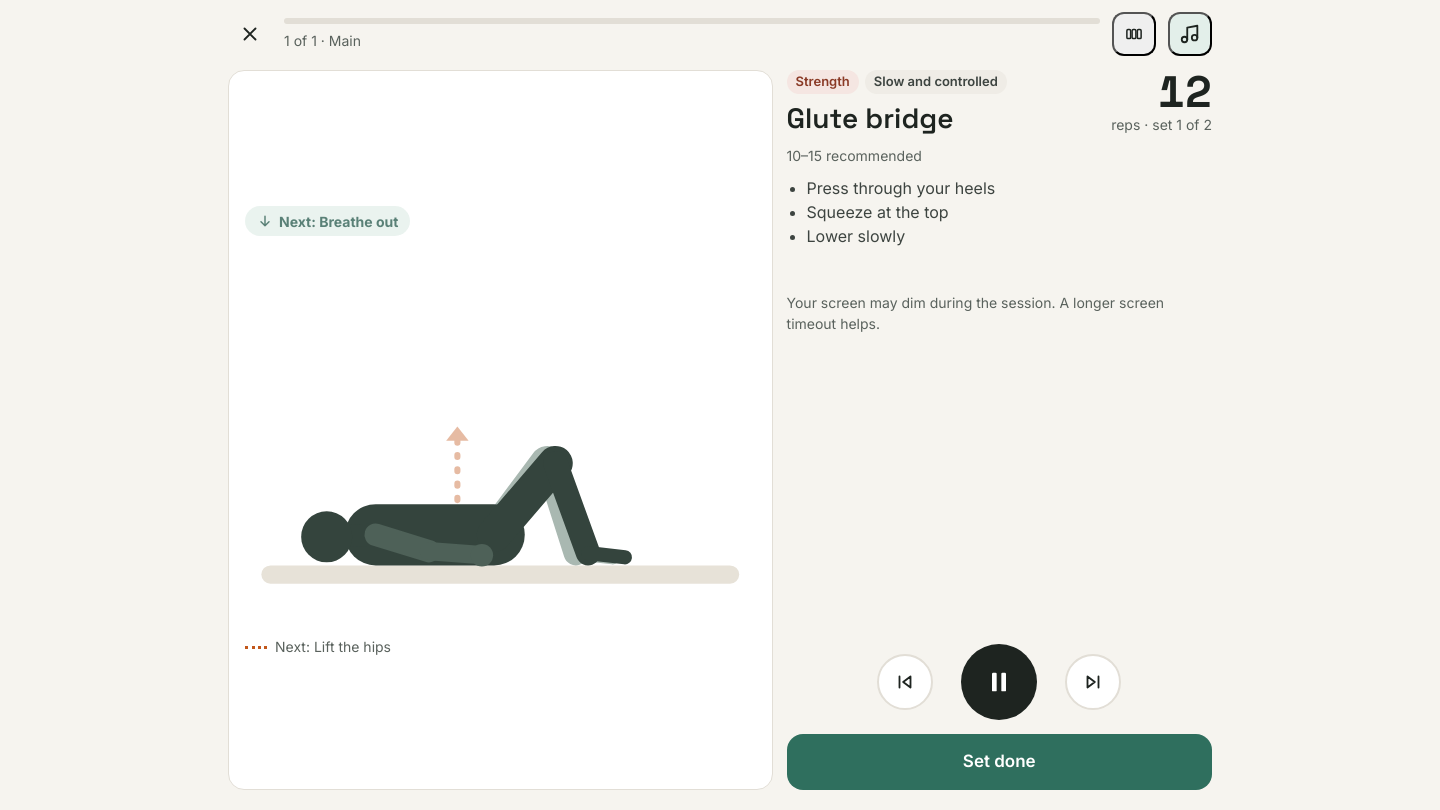
Test case: PlayerScreen sound (009) › plays the session mood, stops quickly on pause and gently at the end
This screenshot has width=1440, height=810.
Click the button named "Pause" at (999, 682), box [961, 644, 1037, 720]
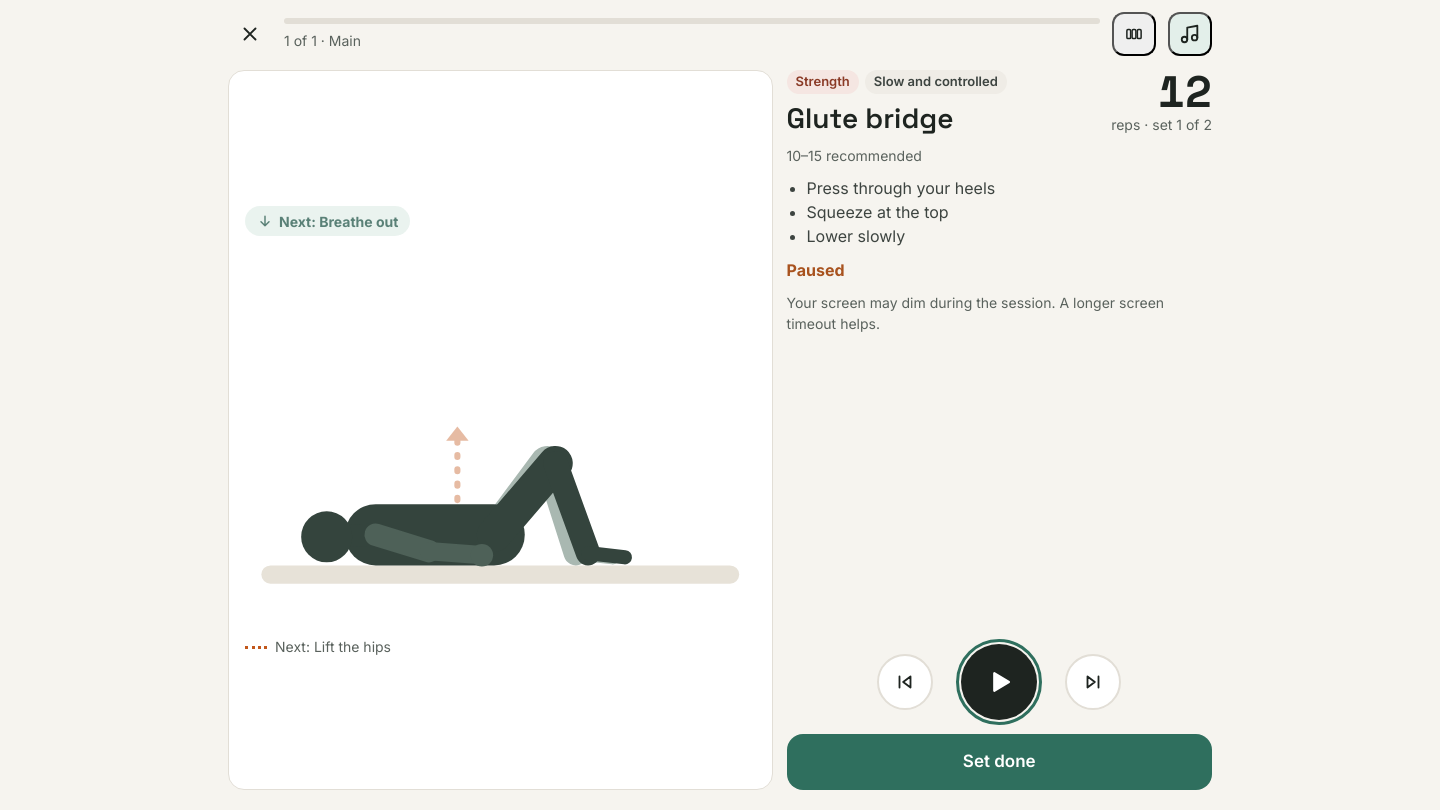
Click the button named "Resume" at (999, 682), box [961, 644, 1037, 720]
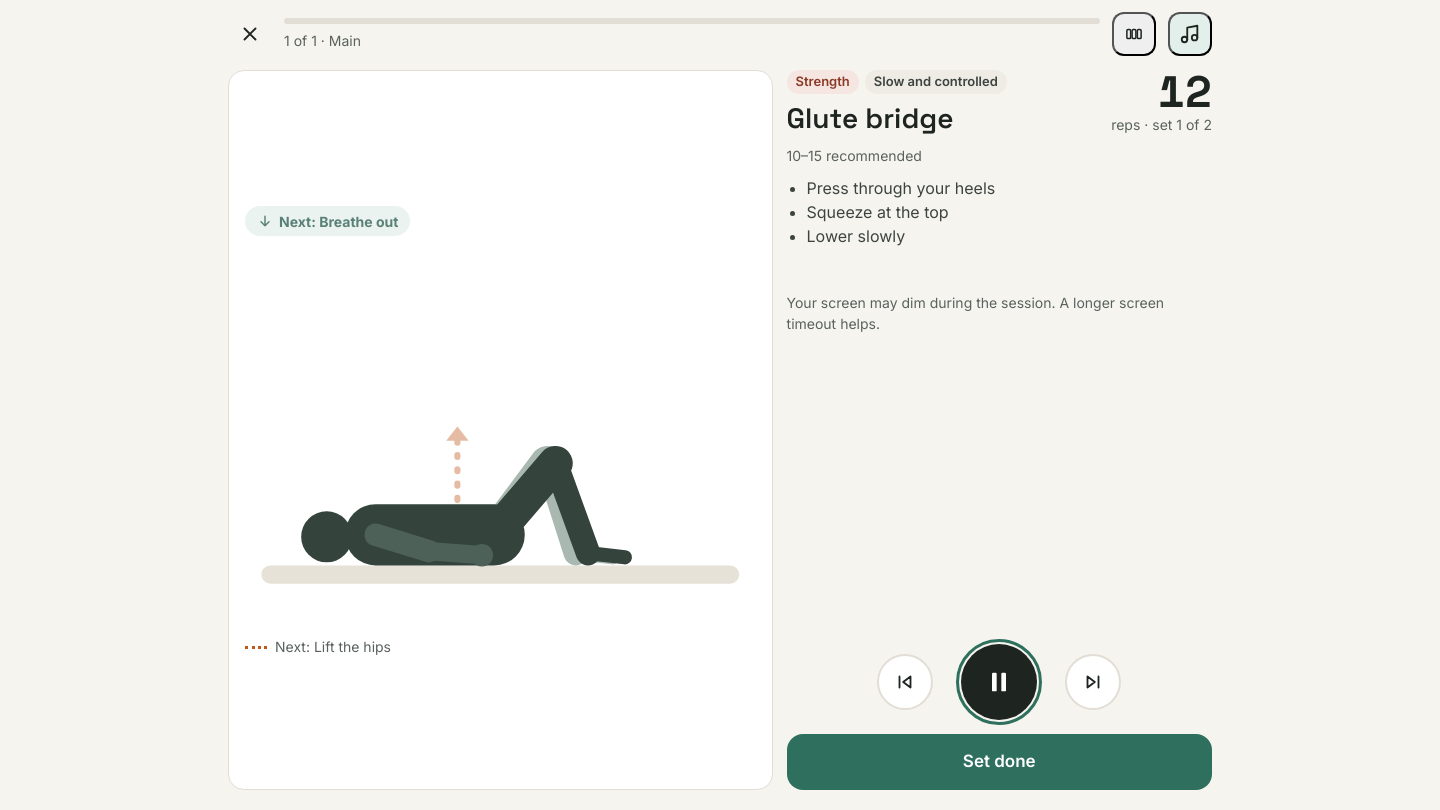
Click the button "Set done" at (999, 762), box [786, 734, 1212, 790]
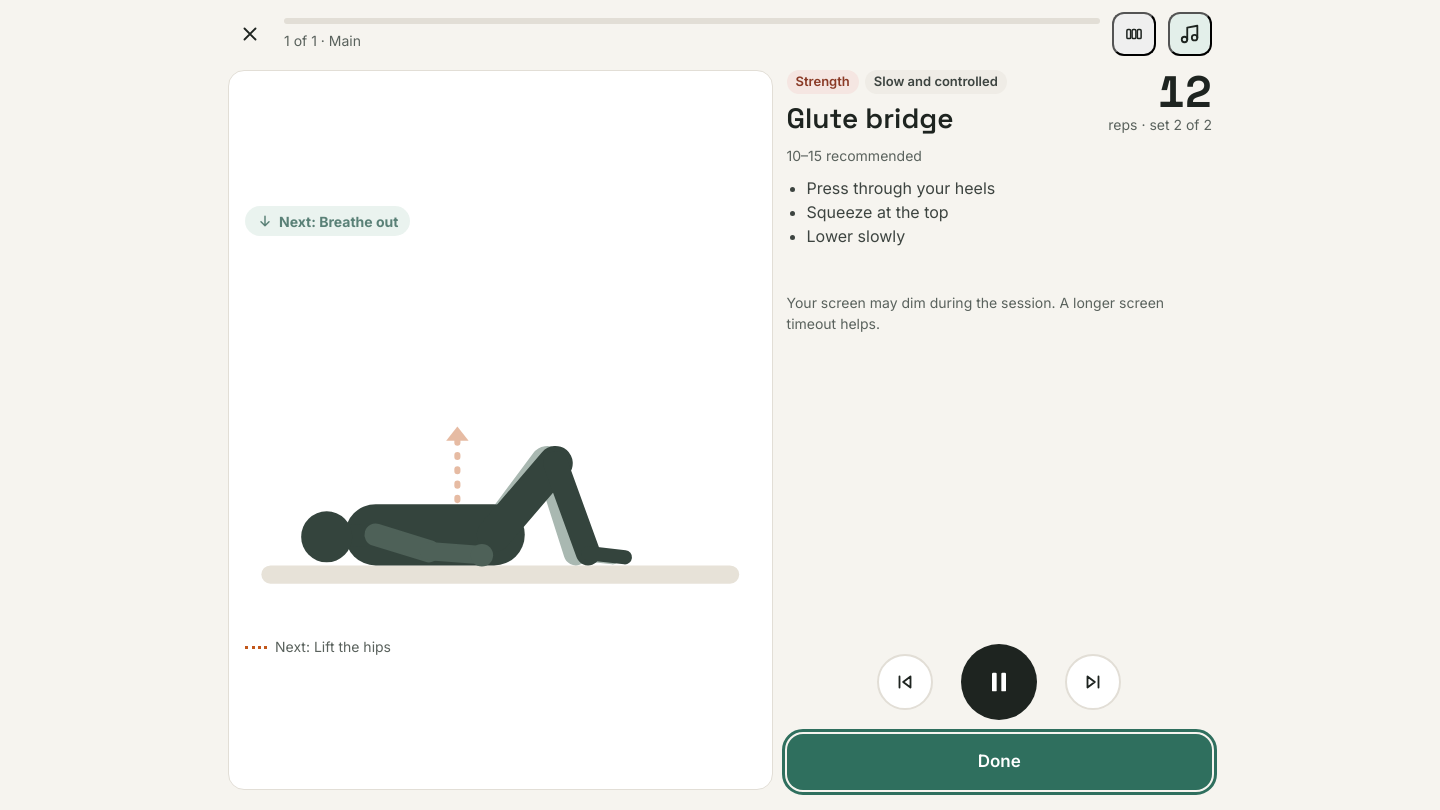
Click the button "Done" at (999, 762), box [786, 734, 1212, 790]
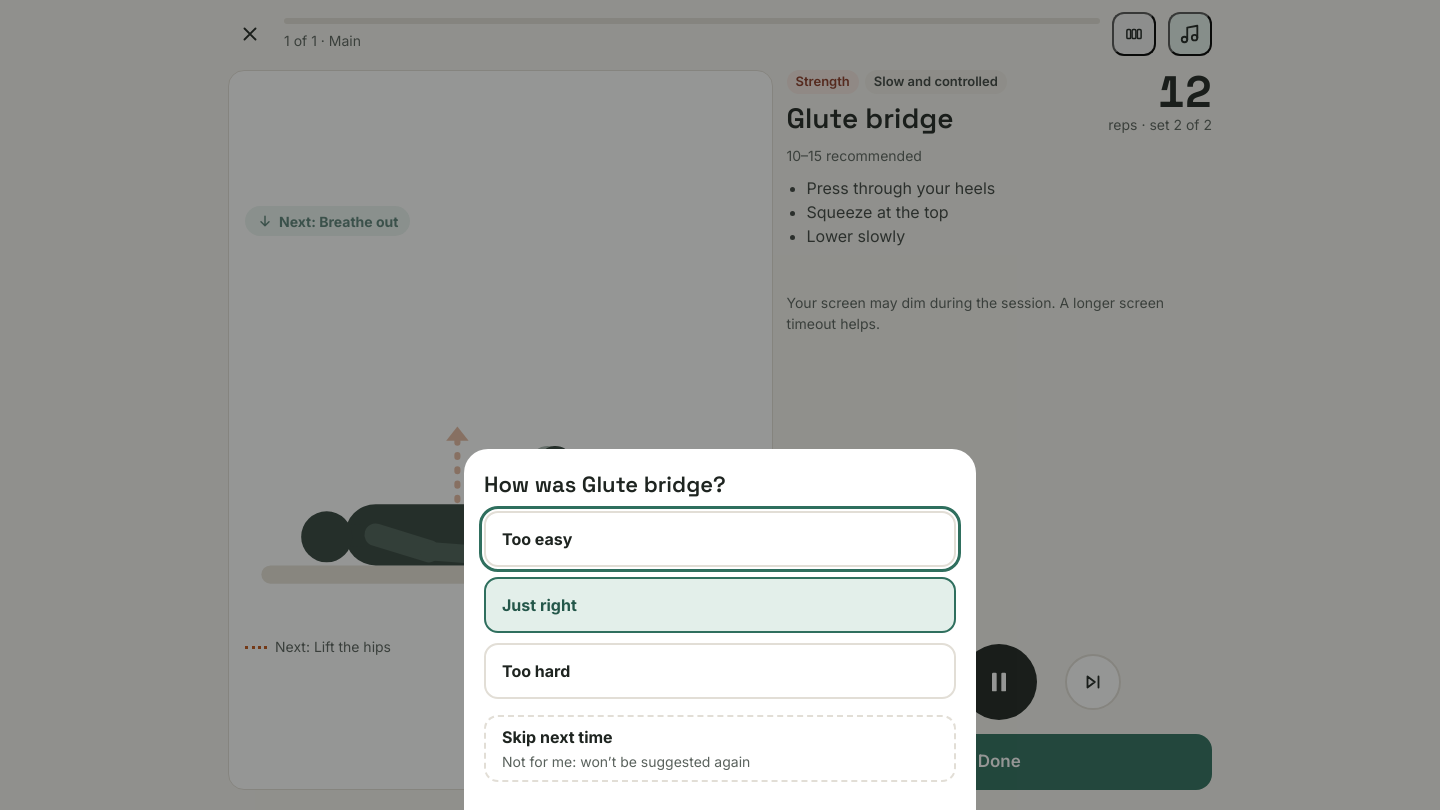
Click the button "Just right" at (539, 605), box [484, 577, 956, 633]
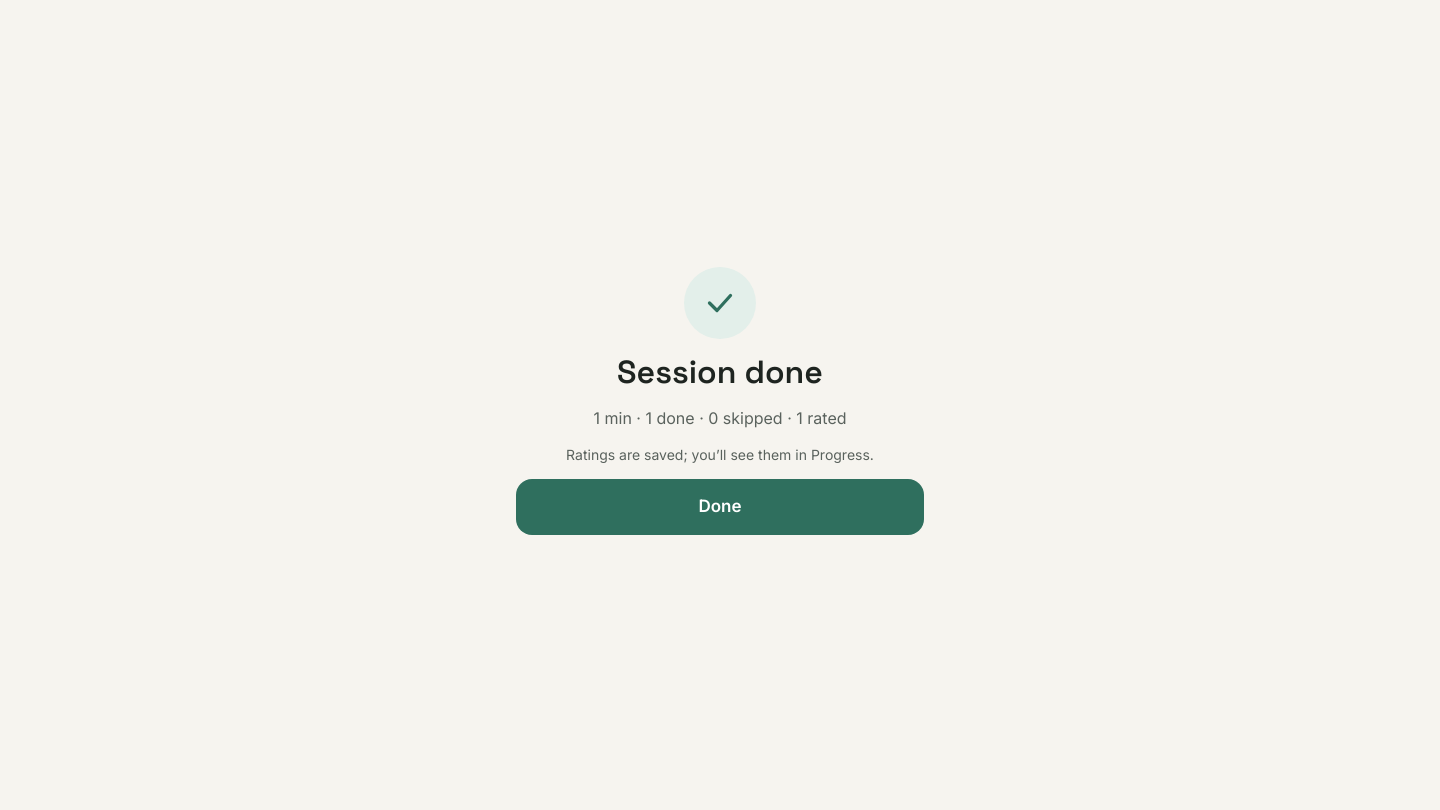
Expected: the heading "Session done" is shown, [617, 353, 823, 392]
